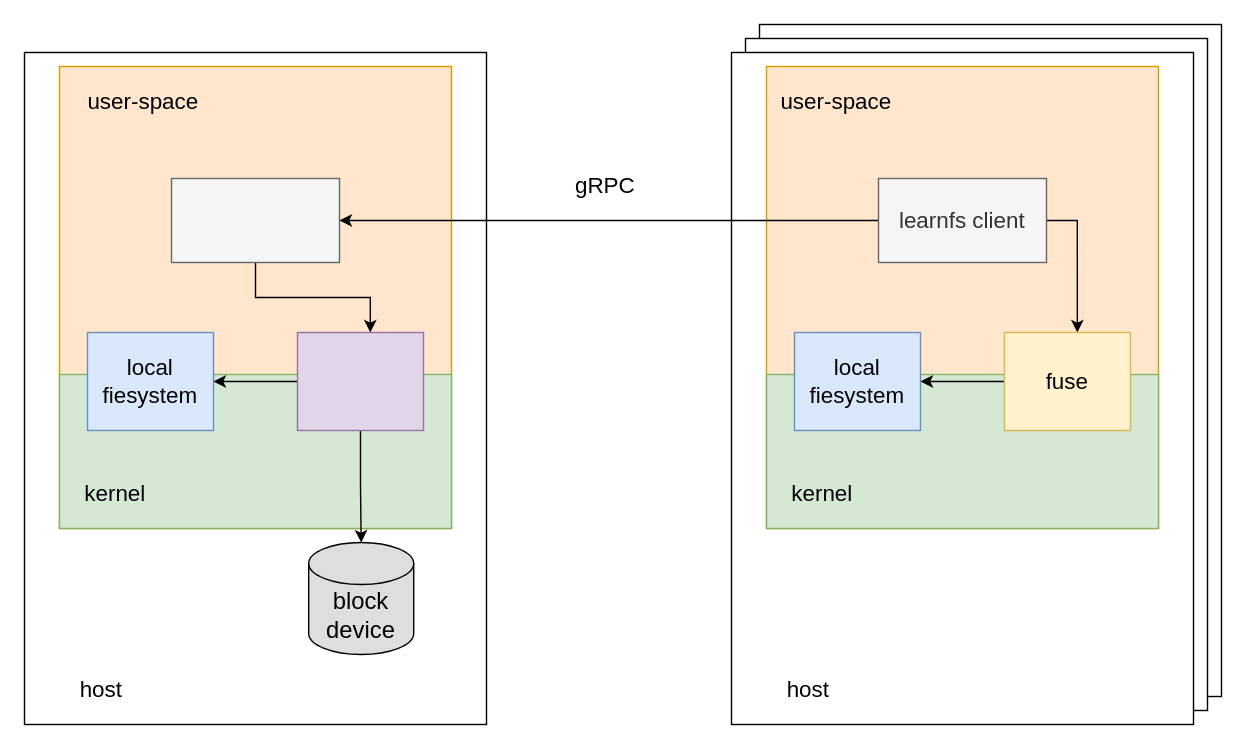
Some shapes in this 1246 by 749 pixel diagram are drawn without their labels. Here are the shapes that lost their labels. From the top down, the centre of each, then its label:
At point (255, 219): "learnfs server".
At point (360, 380): "io_uring".
